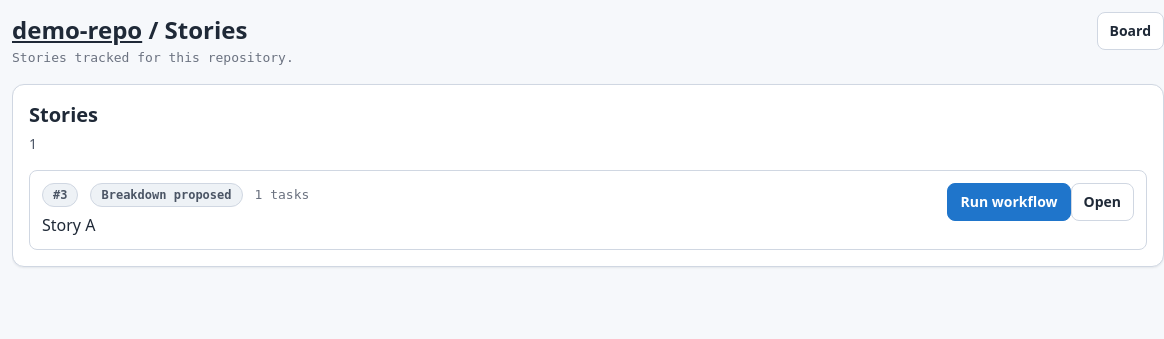
StoriesIndexPage › runs story workflow from the stories list and shows the result banner
What coordinates should you click on to do the following:
click the button "Run workflow"
I would click on:
 (1009, 202)
Its box is [948,182,1070,220].
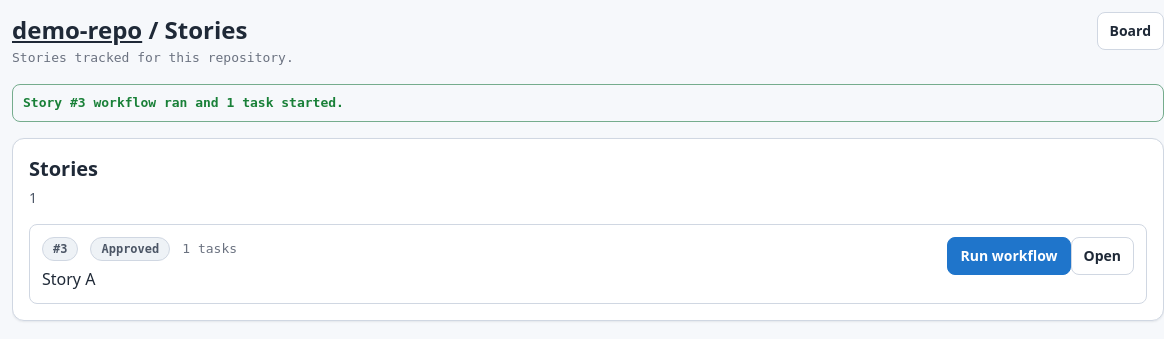
Expected: the text "Story #3 workflow ran and 1 task started." is shown, [12,84,1163,122]
Expected: the text "Approved" is shown, [90,236,170,260]
